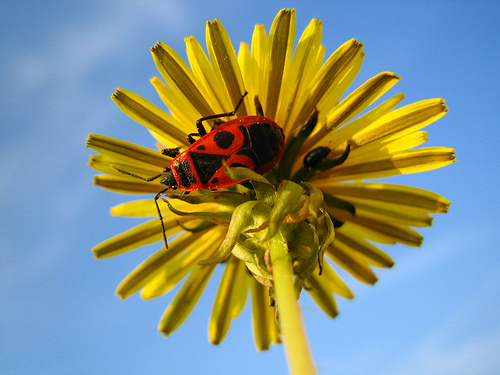dandelion: (78, 6, 474, 355)
